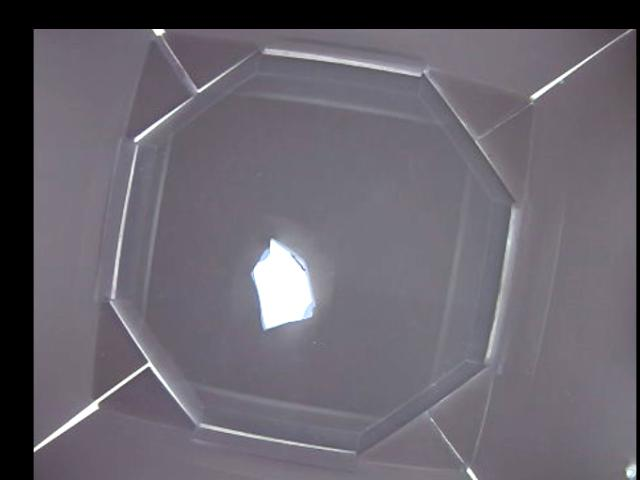China: (249, 237, 318, 331)
